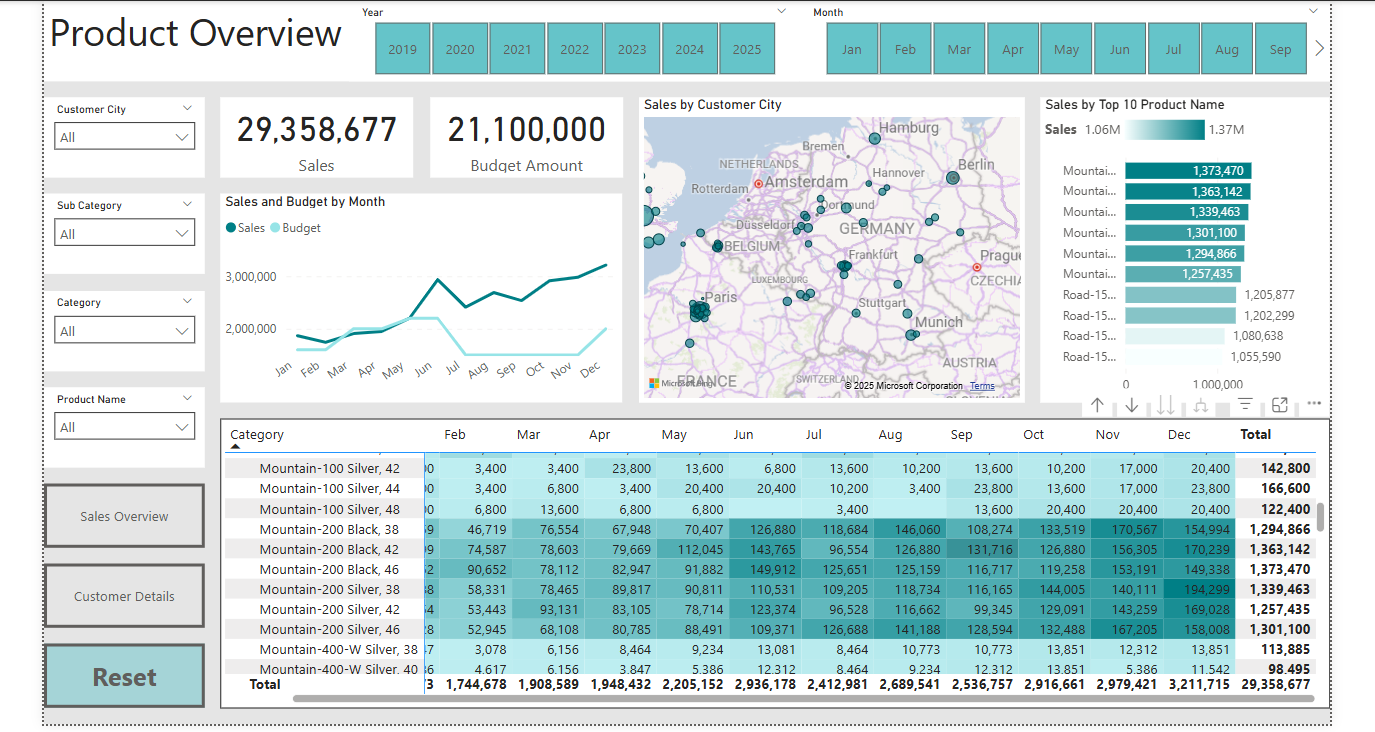

Layout of this report page (visuals, bound fields, positions):
{"tool":"powerbi","page":{"name":"Product Details","canvas":[1280,720],"ordinal":2},"visuals":[{"type":"textbox","box":[0,0,1280,80],"z":0},{"type":"slicer","fields":{"Values":["DIM_Customers.Customer City"]},"box":[0,96,160,80],"z":1000},{"type":"slicer","fields":{"Values":["DIM_Products.Sub Category"]},"box":[0,192,160,80],"z":2000},{"type":"slicer","fields":{"Values":["DIM_Products.Product Name"]},"box":[0,384,160,80],"z":3000},{"type":"slicer","fields":{"Values":["DIM_Products.Product Category"]},"box":[0,288,160,80],"z":4000},{"type":"slicer","fields":{"Values":["Dim_Calender.Year"]},"box":[304,0,448,80],"z":5000},{"type":"slicer","fields":{"Values":["Dim_Calender.MonthShort"]},"box":[752,0,528,80],"z":6000},{"type":"lineChart","fields":{"Category":["Dim_Calender.MonthShort"],"Y":["Measures (2).Sales","Measures (2).Budget Amount"]},"box":[176,192,400,208],"z":7000},{"type":"map","fields":{"Category":["DIM_Customers.Customer City"],"Size":["Measures (2).Sales"]},"box":[592,96,384,304],"z":8000},{"type":"card","fields":{"Values":["Measures (2).Sales"]},"box":[176,96,192,80],"z":9000},{"type":"card","fields":{"Values":["Measures (2).Budget Amount"]},"box":[384,96,192,80],"z":10000},{"type":"barChart","title":"Sales by Top 10 Product Name","fields":{"Y":["Measures (2).Sales"],"Category":["DIM_Products.Product Name"]},"box":[992,96,288,304],"z":11000},{"type":"pivotTable","fields":{"Rows":["DIM_Products.Product Category","DIM_Products.Product Name"],"Columns":["Dim_Calender.MonthShort"],"Values":["Measures (2).Sales"]},"box":[176,416,1104,288],"z":12000},{"type":"actionButton","box":[0,640,160,64],"z":12001},{"type":"actionButton","box":[0,480,160,64],"z":12002},{"type":"actionButton","box":[0,560,160,64],"z":12003}]}

Visuals, with their boxes on the page's 1280x720 design canvas (x1, y1, x2, y2). These are canvas units, not pixel positions in the 1375x732 screenshot, which may show the page scaled, cropped or inside an application window:
textbox: 0:0:1280:80
slicer - DIM_Customers.Customer City: 0:96:160:176
slicer - DIM_Products.Sub Category: 0:192:160:272
slicer - DIM_Products.Product Name: 0:384:160:464
slicer - DIM_Products.Product Category: 0:288:160:368
slicer - Dim_Calender.Year: 304:0:752:80
slicer - Dim_Calender.MonthShort: 752:0:1280:80
lineChart - Dim_Calender.MonthShort x Measures (2).Sales: 176:192:576:400
map - DIM_Customers.Customer City x Measures (2).Sales: 592:96:976:400
card - Measures (2).Sales: 176:96:368:176
card - Measures (2).Budget Amount: 384:96:576:176
"Sales by Top 10 Product Name" barChart: 992:96:1280:400
pivotTable - DIM_Products.Product Category x DIM_Products.Product Name: 176:416:1280:704
actionButton: 0:640:160:704
actionButton: 0:480:160:544
actionButton: 0:560:160:624
